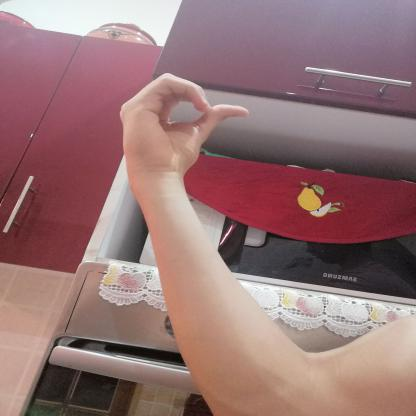WAW: (104, 65, 258, 189)
